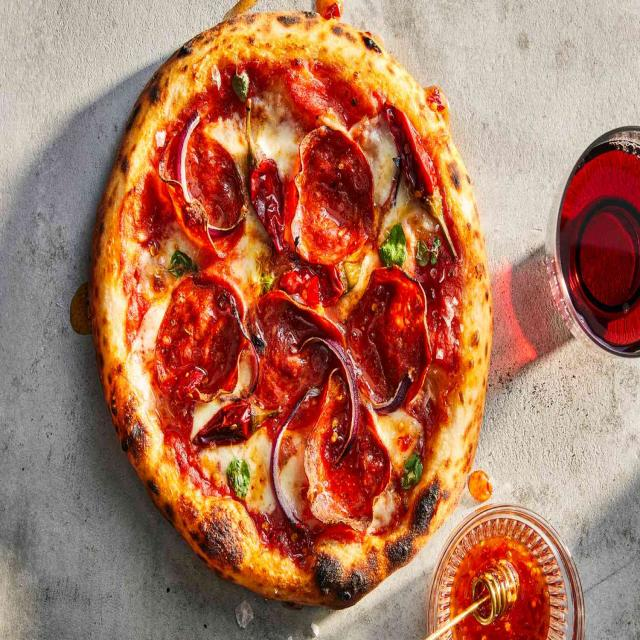pizza: (87, 11, 493, 607)
